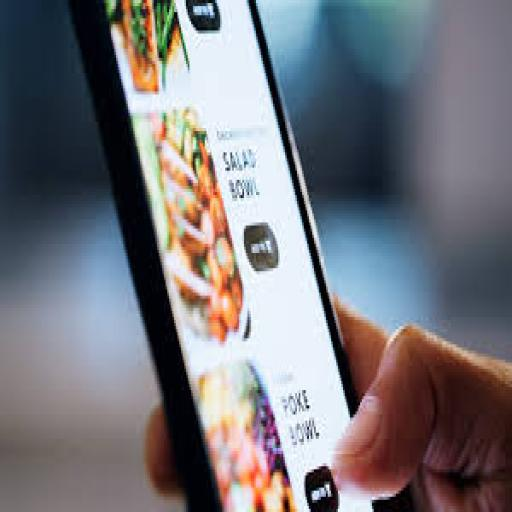phone: (63, 0, 408, 512)
